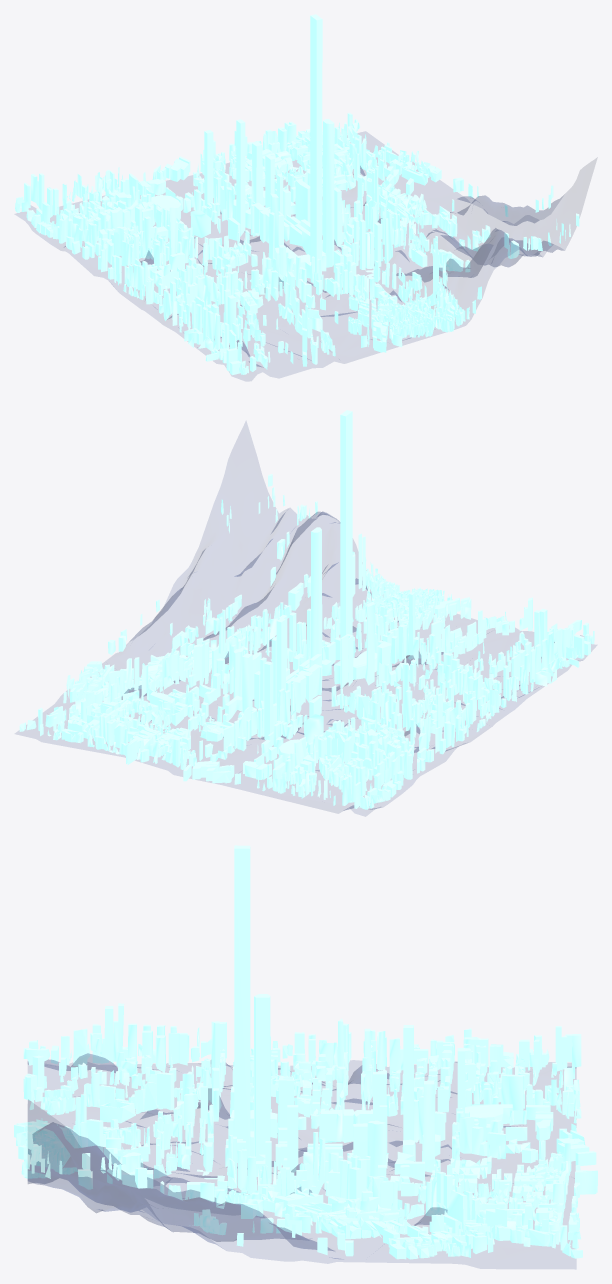
The model's file is XinyiDist_min.glb.
3 renders of one model, top to bottom at view 1: azimuth 30°, elevation 25°; view 2: azimuth 150°, elevation 25°; view 3: azimuth 270°, elevation 25°, orthographic. The views are drawn at different scales.
Visible parts, largest first — view 1: Areas:building, EXPORT_OSM_MAPNIK_WM.002; view 2: Areas:building, EXPORT_OSM_MAPNIK_WM.002; view 3: Areas:building, EXPORT_OSM_MAPNIK_WM.002.
Boxes of the visible parts, x1,y1,x2,y2 form: Areas:building: (15,14,579,375); EXPORT_OSM_MAPNIK_WM.002: (16,132,596,380); Areas:building: (19,410,594,809); EXPORT_OSM_MAPNIK_WM.002: (16,422,596,815); Areas:building: (14,845,597,1259); EXPORT_OSM_MAPNIK_WM.002: (27,1053,576,1268).
Size of the model in its own units: 2.21 by 1.6 by 2.6.
